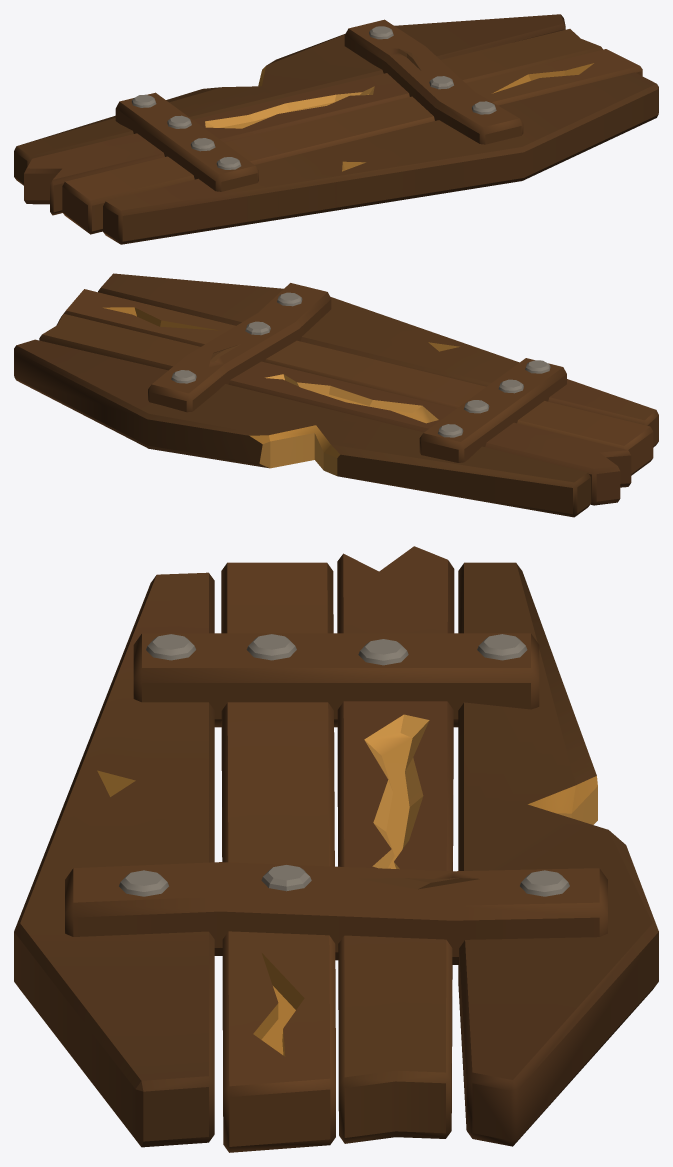
The model's file is Cofin_Lid_1_2.obj.
3 views of the same model, one above another, from view 1: azimuth 30°, elevation 25°; view 2: azimuth 150°, elevation 25°; view 3: azimuth 270°, elevation 25° (orthographic). The views are drawn at different scales.
Parts seen in each view (by area): view 1: Cofin_Lid_1_2; view 2: Cofin_Lid_1_2; view 3: Cofin_Lid_1_2.
Boxes of the visible parts, x1,y1,x2,y2 form: Cofin_Lid_1_2: (14,14,658,244); Cofin_Lid_1_2: (14,273,658,517); Cofin_Lid_1_2: (14,546,658,1152).
Size of the model in its own units: 1.38 by 0.1265 by 0.6911.
